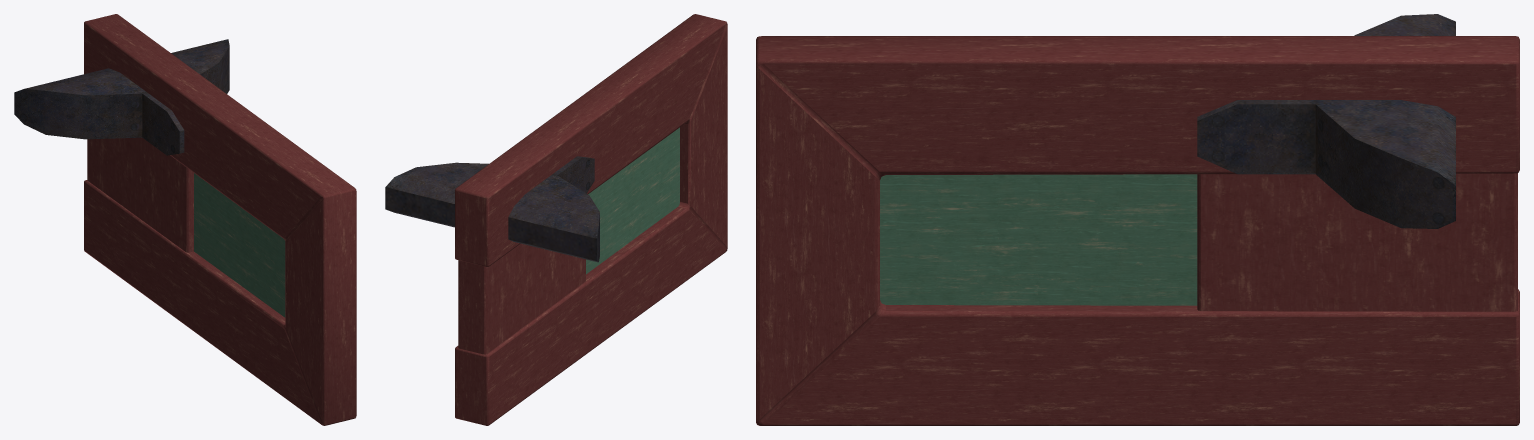
Rendered from SM_Railing01a.fbx.
3 views of the same model, side by side, from view 1: azimuth 30°, elevation 25°; view 2: azimuth 150°, elevation 25°; view 3: azimuth 270°, elevation 25° (orthographic). The views are drawn at different scales.
Parts seen in each view (by area): view 1: SM_Railing01a; view 2: SM_Railing01a; view 3: SM_Railing01a.
Part boxes in pixels (x1,y1,x2,y2): SM_Railing01a: [14, 14, 356, 425]; SM_Railing01a: [385, 14, 727, 425]; SM_Railing01a: [756, 14, 1519, 425].
Size of the model in its own units: 43.29 by 85.11 by 45.
Materials: 3 (3 with a texture image).
